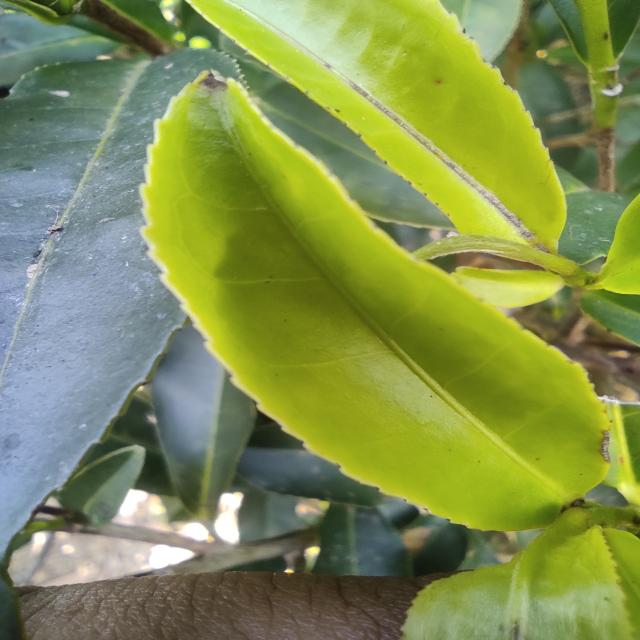Category C(4-7 days): (120, 53, 632, 544)
